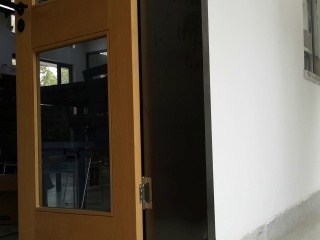room: (4, 3, 218, 238)
